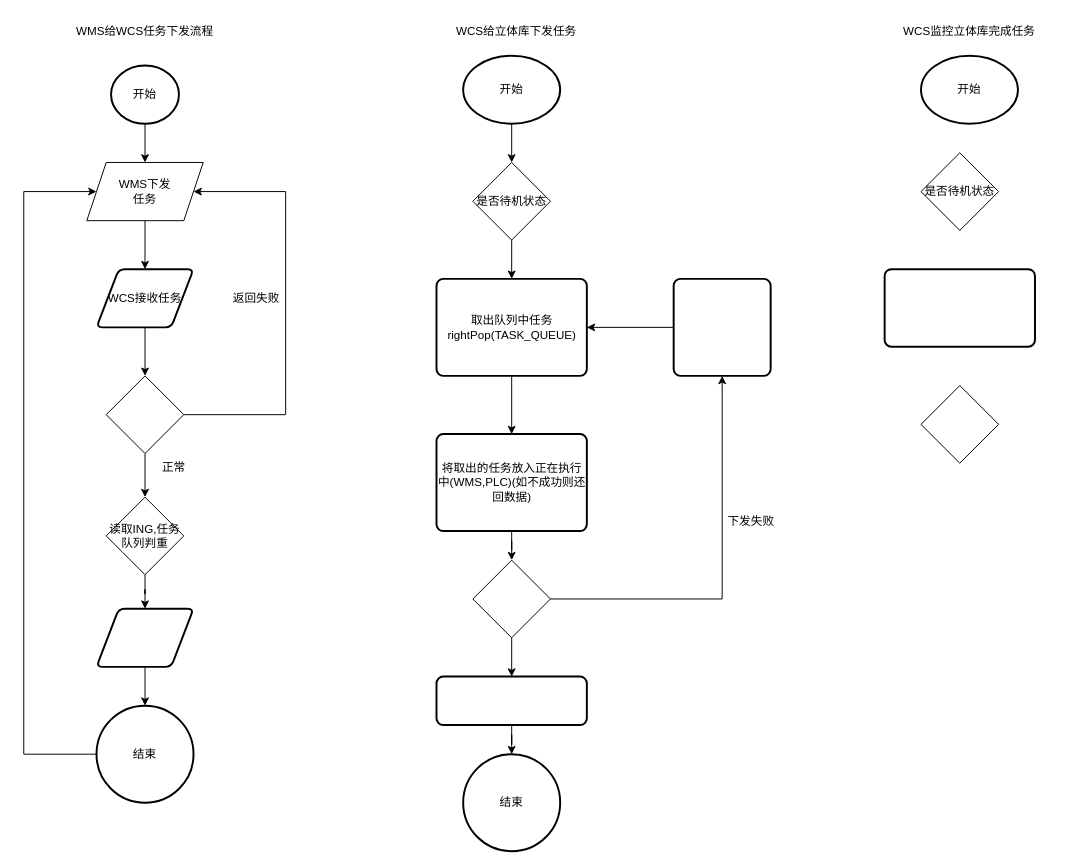
Some shapes in this 1069 by 868 pixel diagram are drawn without their labels. The shapes that lost their labels are listed below. From the top down, each one's box as (x1, y1, x2, y2) in pixels, then its label:
(672, 277, 771, 376): 归还队列数据
(883, 268, 1035, 347): 取出PLC历史数据,对比REDIS数据
(105, 375, 184, 453): 立体库状态
(472, 559, 550, 638): 下发与否
(95, 607, 194, 667): 任务加入队列
(435, 675, 587, 726): 更新redis 正在执行
